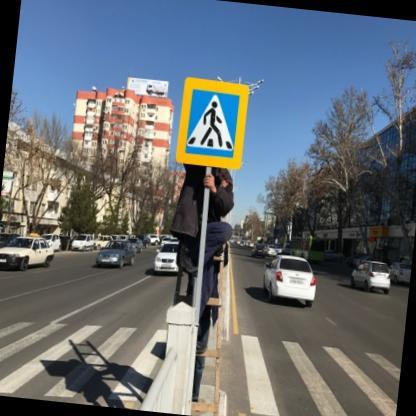road_sign: (176, 77, 253, 168)
